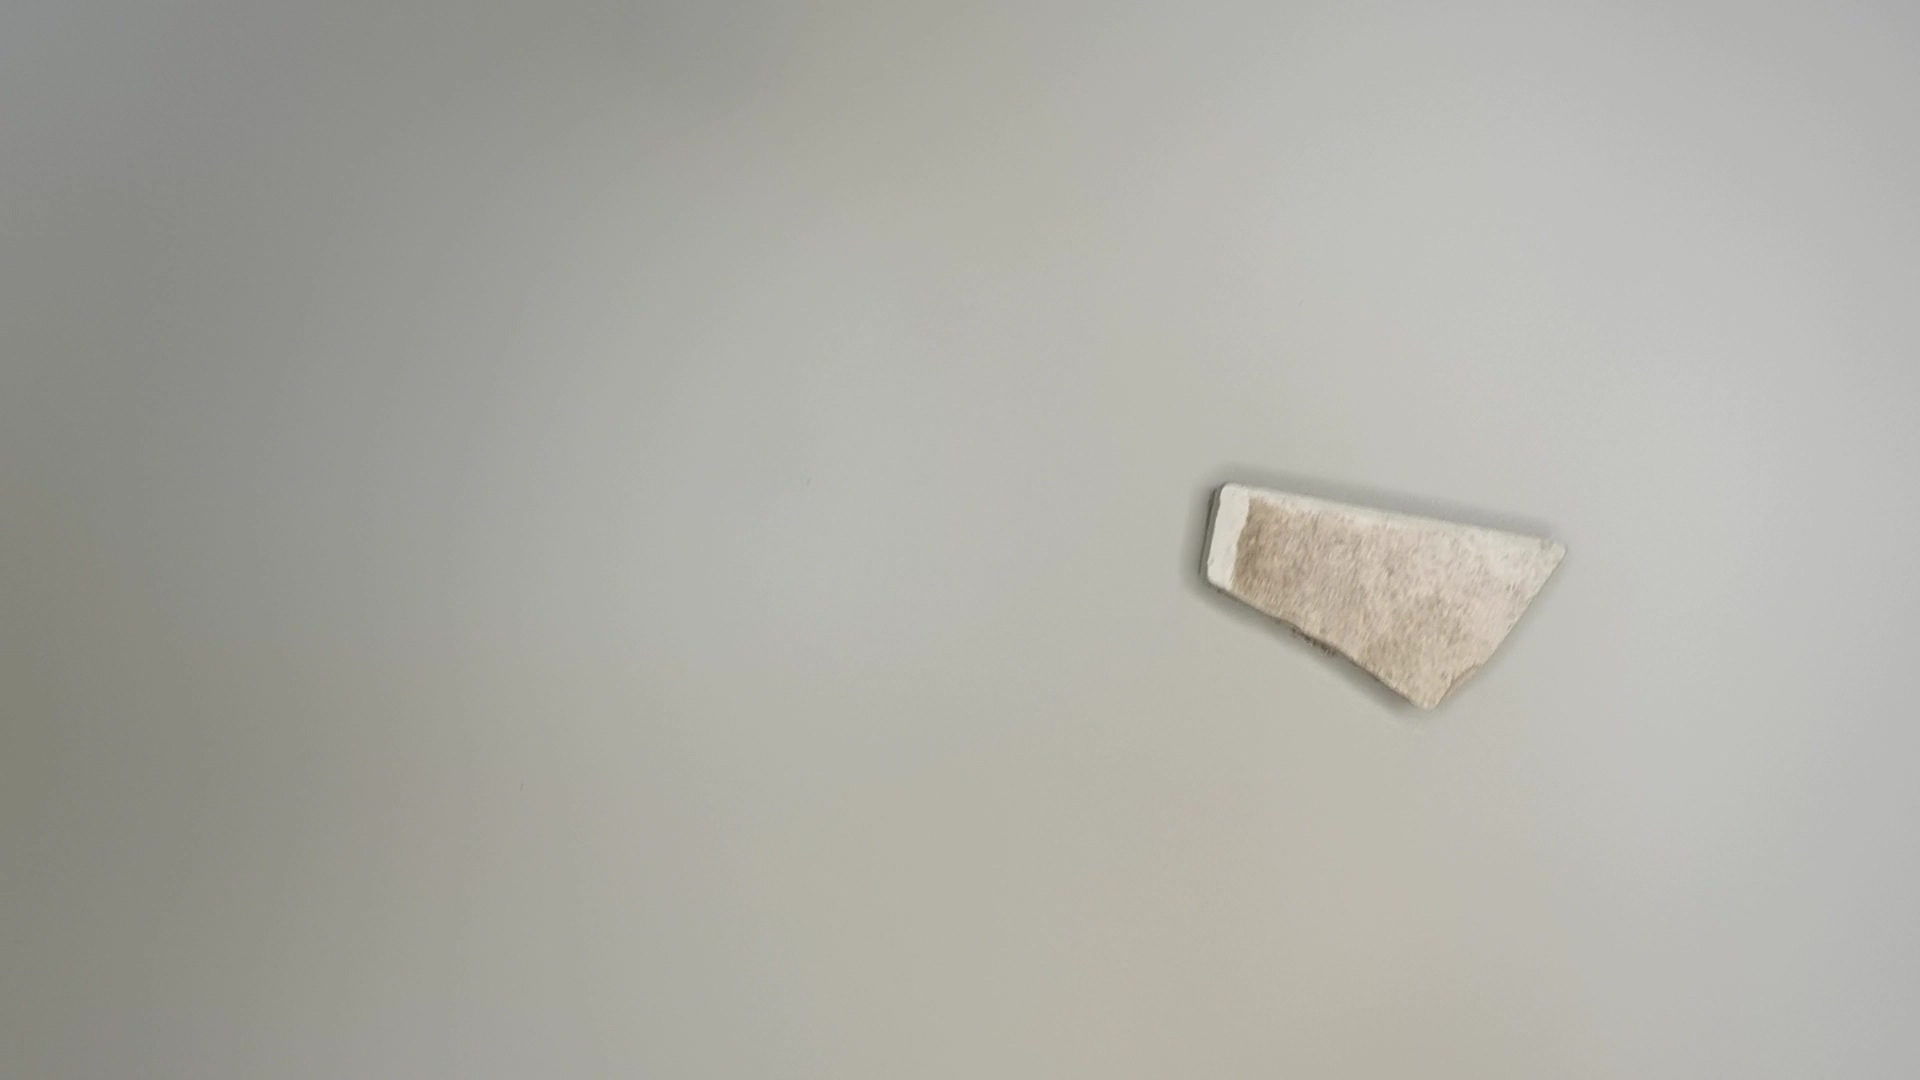ceramic: (1200, 480, 1575, 715)
